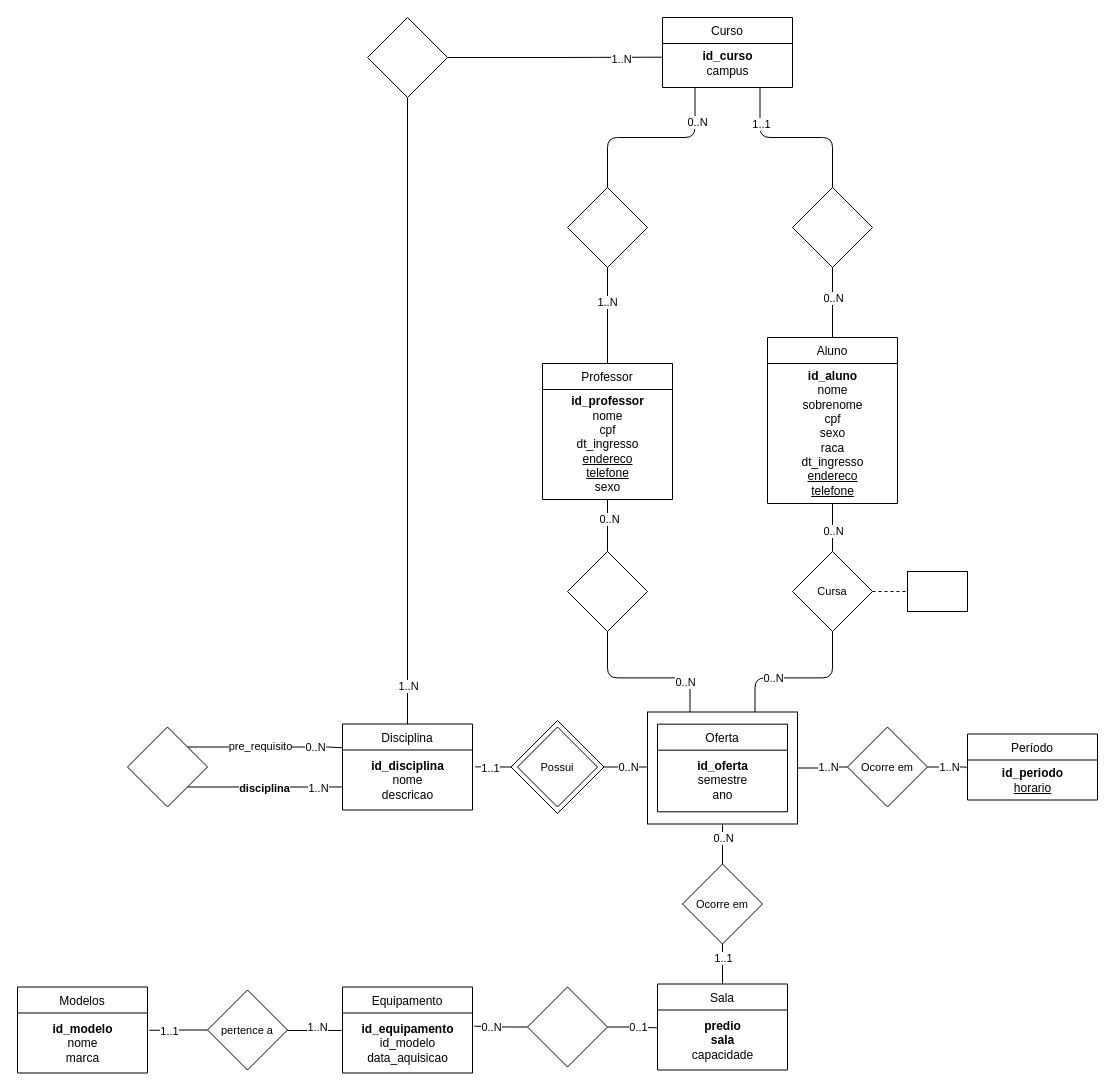
Image size: 1115x1091. Some labels were removed from this diagram. The centre of each missing label's shape, as x and y in pixels:
Composto: point 407,57
está em: point 567,1026
Leciona: point 607,227
Matriculado: point 832,227
Ministra: point 607,591
nota presenca: point 937,591
pré-requisitos: point 167,766
